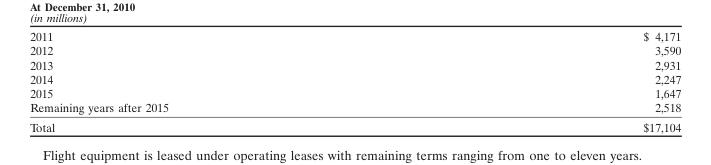table: (29, 29, 680, 133)
table column: (29, 29, 405, 133), (405, 29, 680, 133)
table row: (29, 116, 680, 133), (29, 100, 680, 116), (29, 85, 680, 100), (29, 29, 680, 43), (29, 43, 680, 57), (29, 57, 680, 71), (29, 71, 680, 85)
